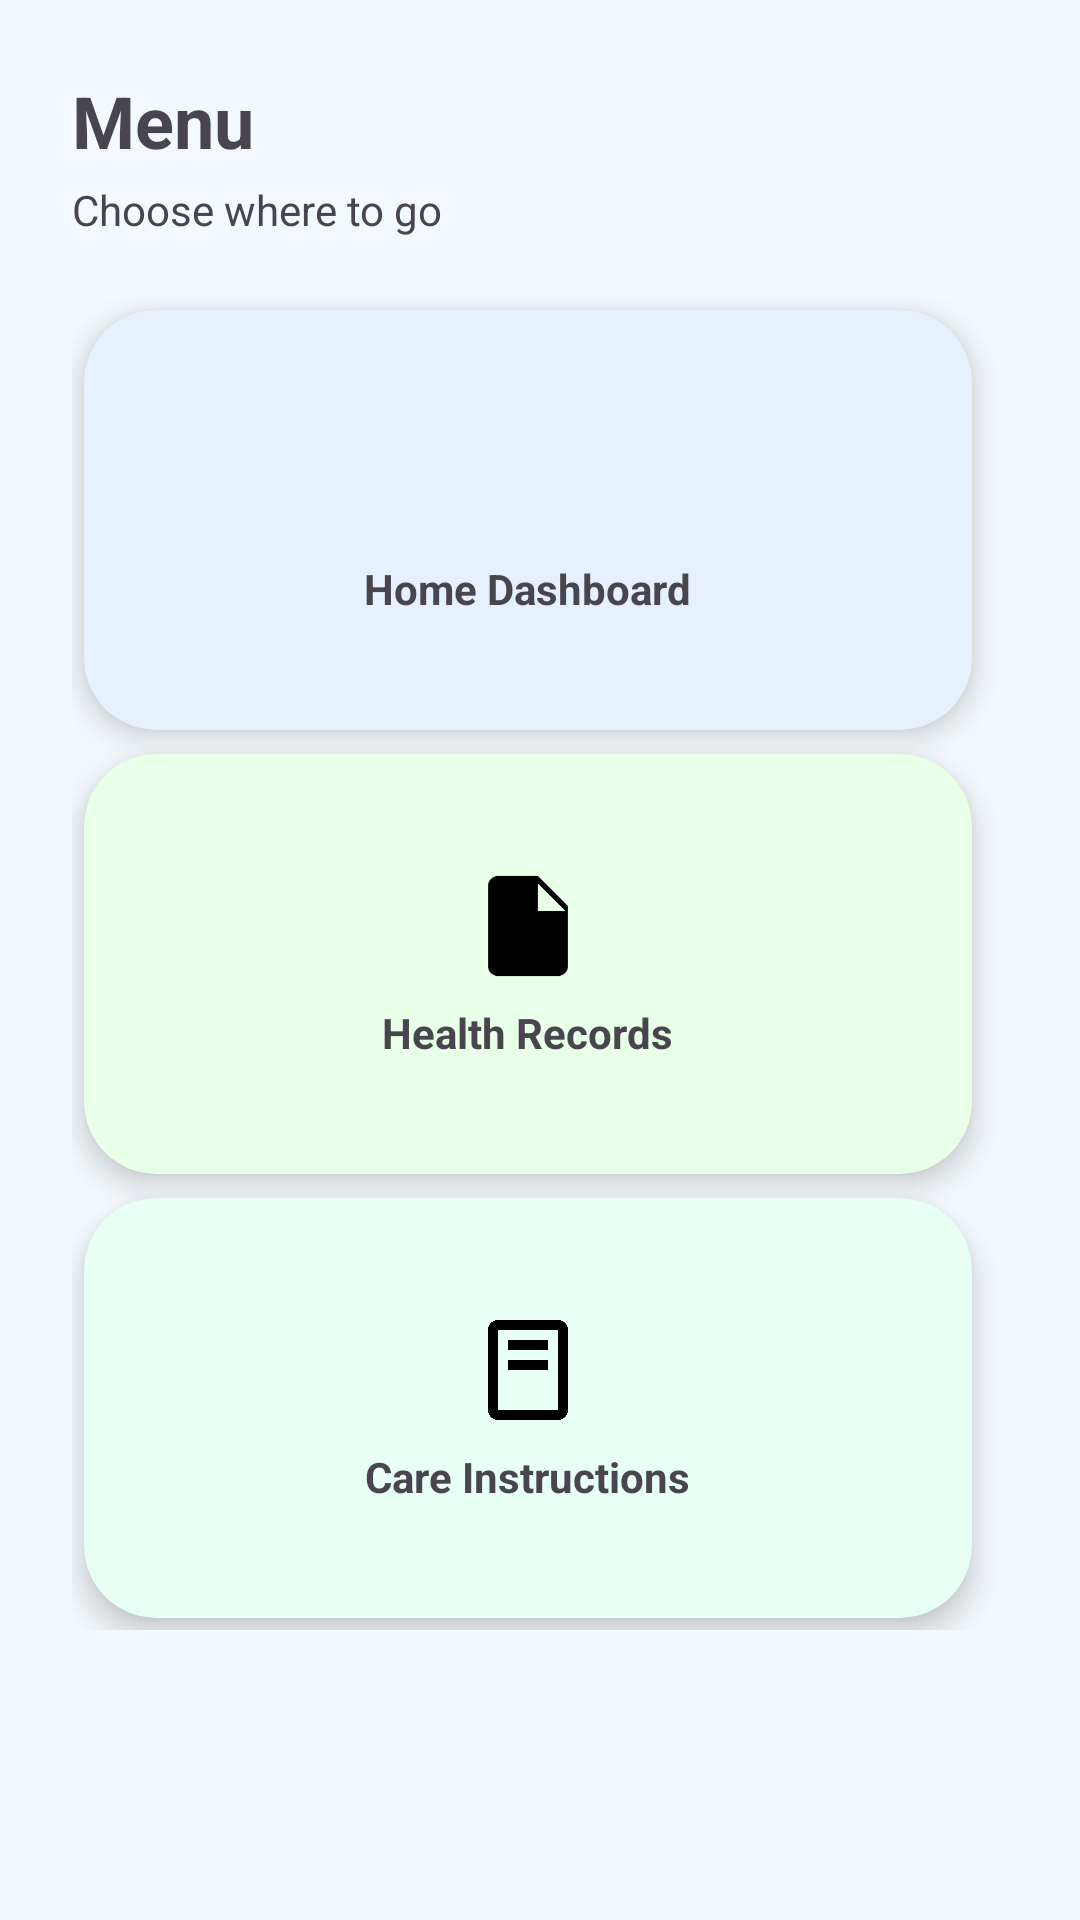

Icon click points for this 1080 x 1920 phone screenshot, format point (x, y):
book: point (528, 1370)
file: point (528, 926)
